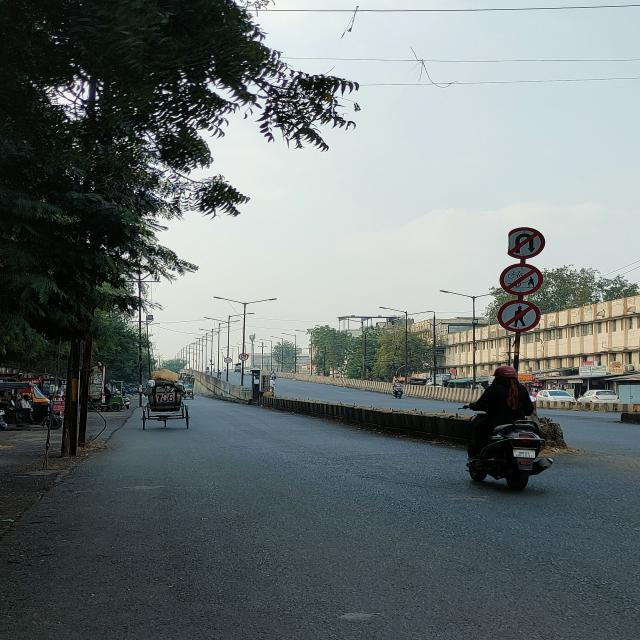cycle_prohibited: (498, 263, 544, 298)
